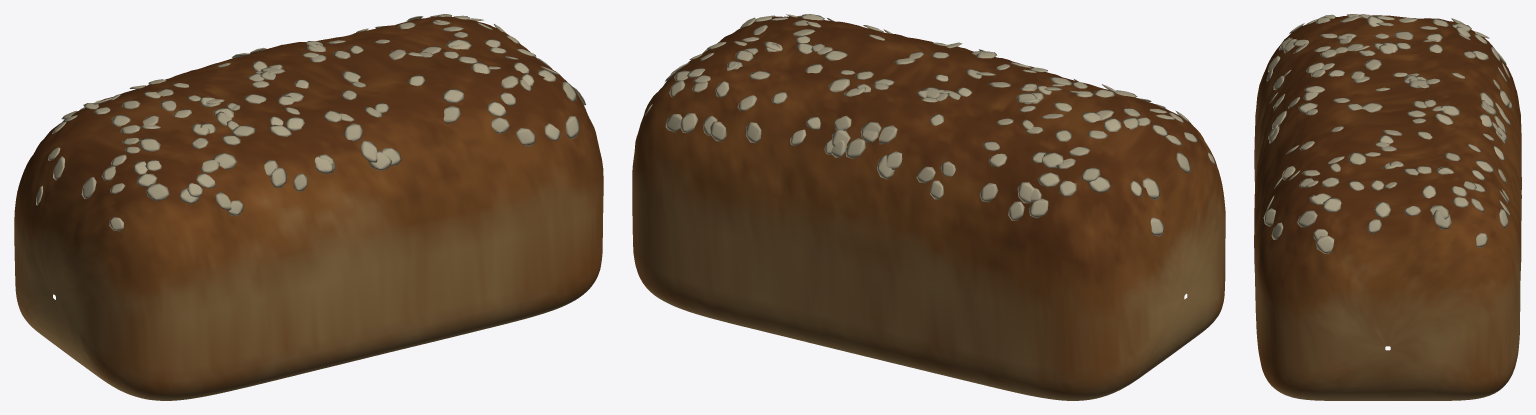
Rendered from haferflocken-500g.glb.
3 views of the same model, side by side, from view 1: azimuth 30°, elevation 25°; view 2: azimuth 150°, elevation 25°; view 3: azimuth 270°, elevation 25° (orthographic). The views are drawn at different scales.
Parts seen in each view (by area): view 1: haferflocken-500g; view 2: haferflocken-500g; view 3: haferflocken-500g.
Part boxes in pixels (x1,y1,x2,y2): haferflocken-500g: [14, 14, 603, 400]; haferflocken-500g: [632, 14, 1225, 400]; haferflocken-500g: [1254, 14, 1521, 400].
Bounding box in the file's own units: 0.2 × 0.0909 × 0.1.
